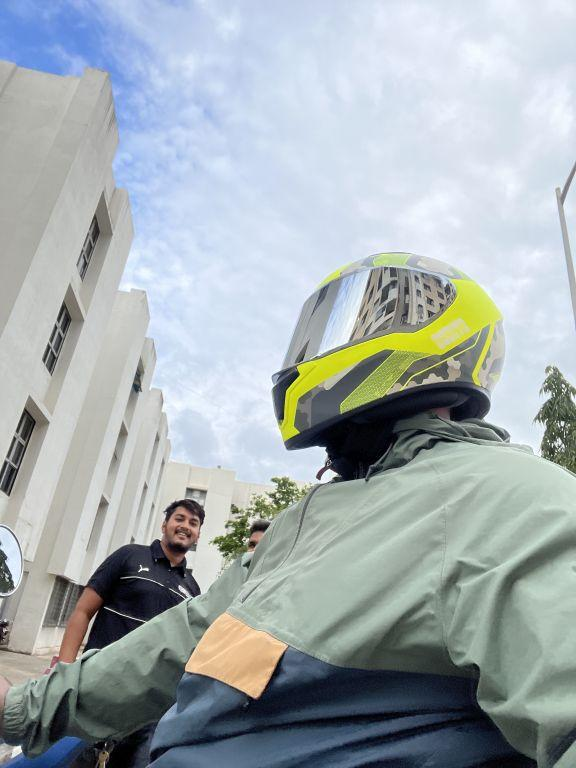helmet: (255, 234, 516, 465)
